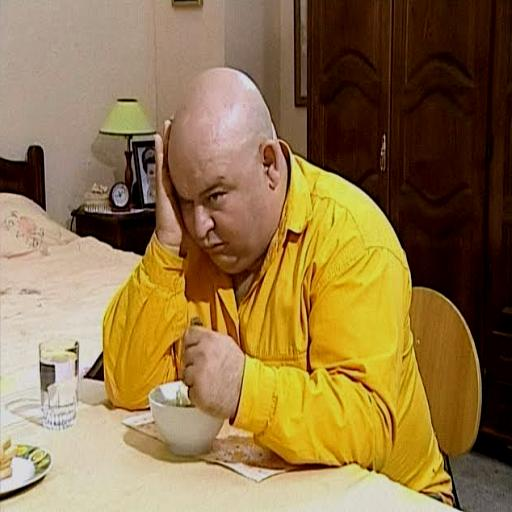sboui: (169, 68, 288, 273)
